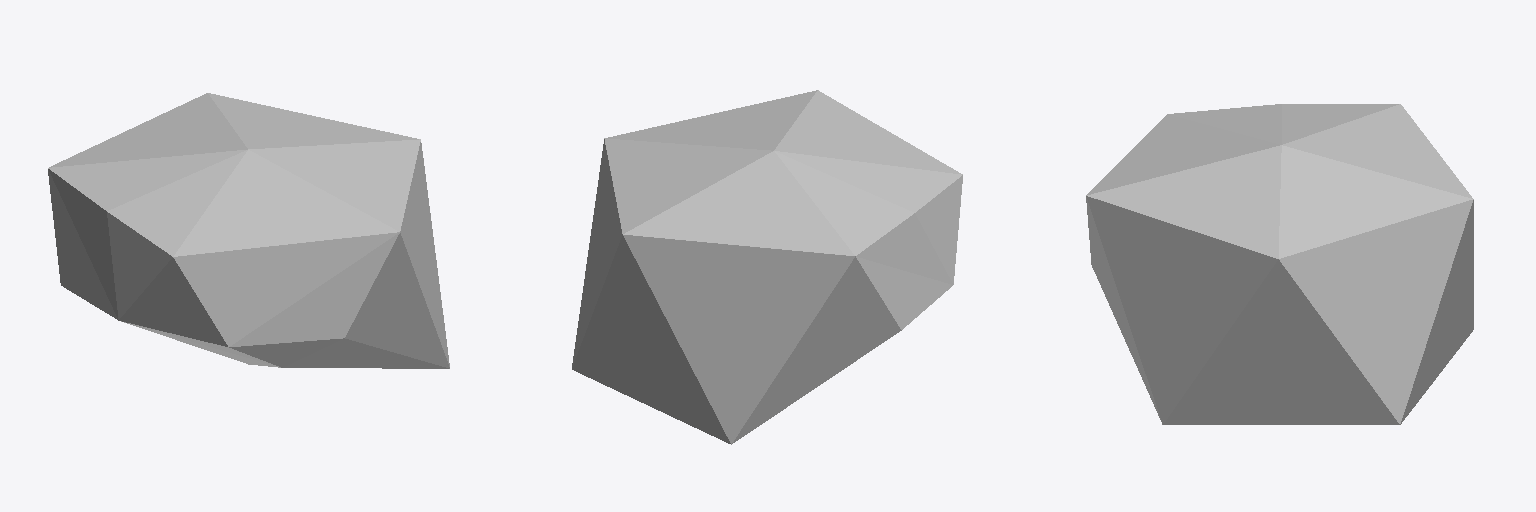
Rendered from rock11.obj.
3 views of the same model, side by side, from view 1: azimuth 30°, elevation 25°; view 2: azimuth 150°, elevation 25°; view 3: azimuth 270°, elevation 25° (orthographic).
Visible parts, largest first — view 1: Rock1.001_Icosphere.000; view 2: Rock1.001_Icosphere.000; view 3: Rock1.001_Icosphere.000.
Boxes of the visible parts, box(x1,y1,x2,y2) form: Rock1.001_Icosphere.000: box(48, 93, 449, 368); Rock1.001_Icosphere.000: box(572, 90, 962, 444); Rock1.001_Icosphere.000: box(1086, 104, 1473, 424).
Bounding box in the file's own units: 1.56 × 0.9735 × 1.59.